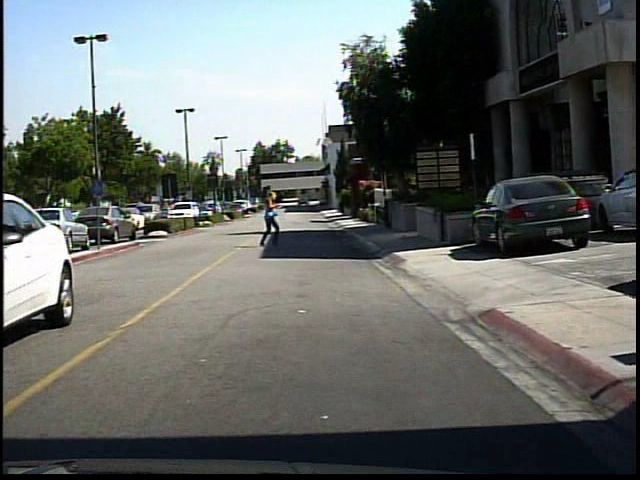person: (252, 186, 285, 250)
